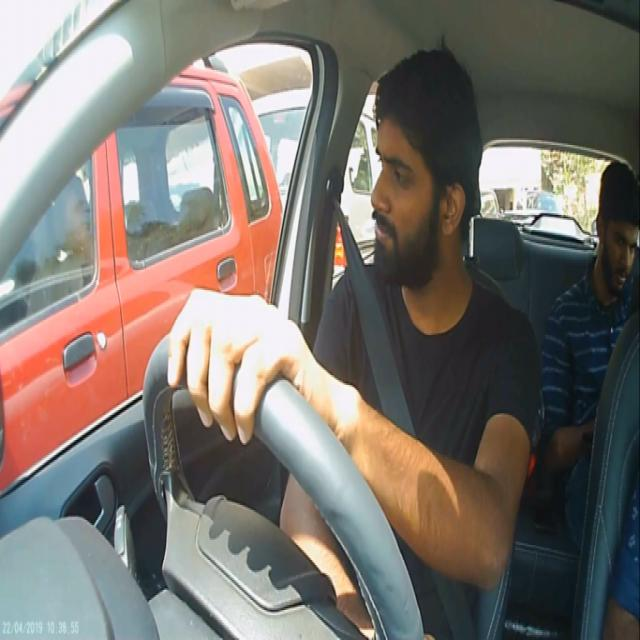seatbelt: (339, 305, 492, 465)
